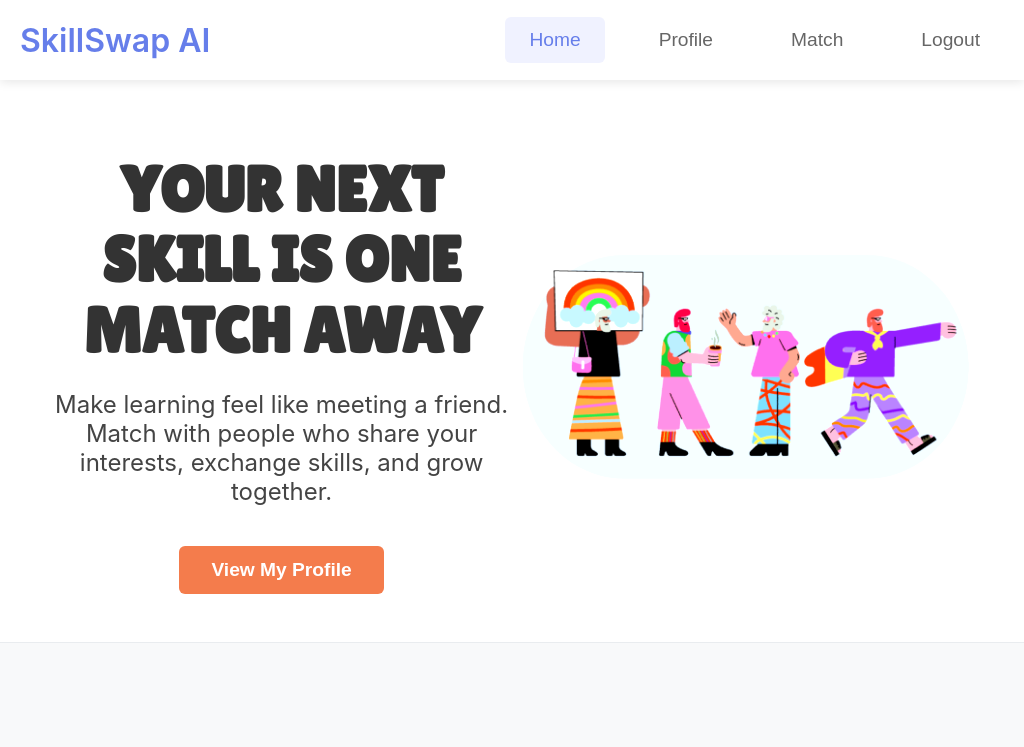
App Integration Tests › Navigation Flow › should navigate between landing page and profile page
The image size is (1024, 747).
expect the text "SkillSwap AI" is shown: met, box [20,20,210,60]
expect the button "Home" is shown: met, box [506,17,605,63]
// Navigate to profile page using the navigation button
Click the button "Profile" at coordinates (686, 40), box [635,17,737,63]
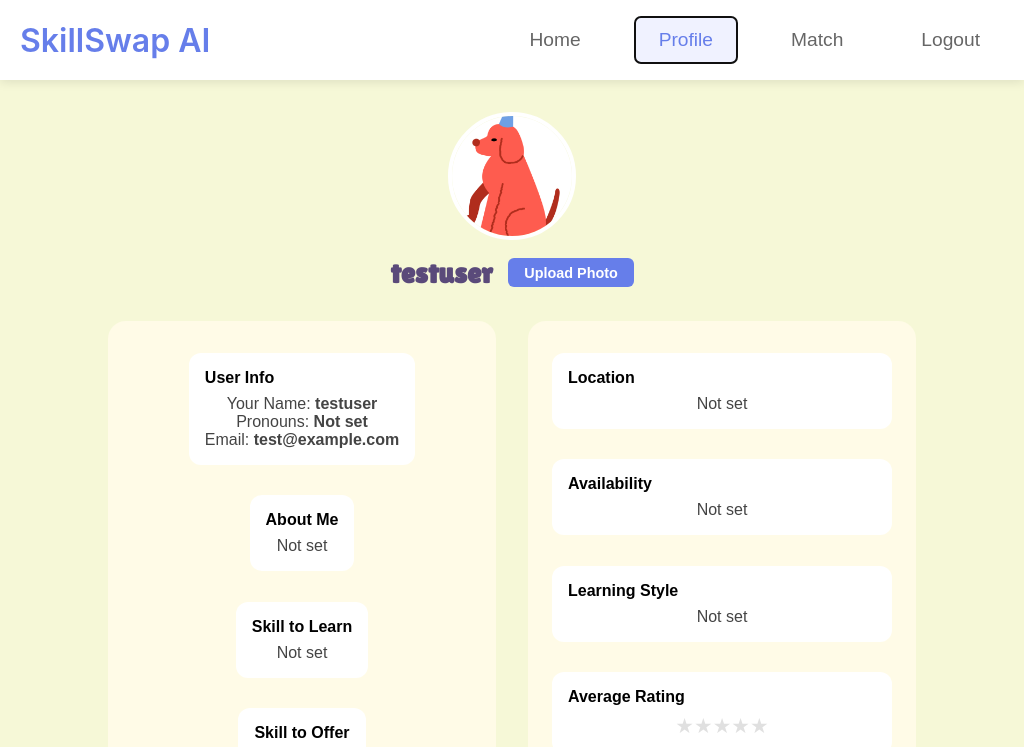
expect the heading "testuser" is shown: met, box [390,256,492,289]
